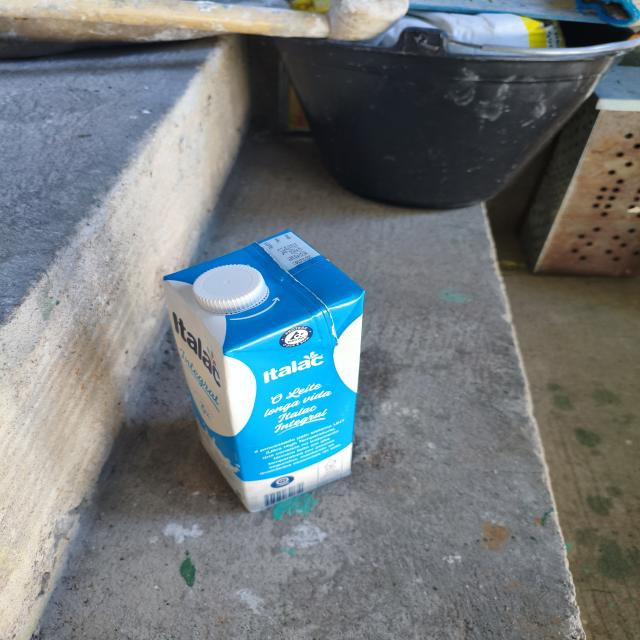Caixa de Leite: (158, 220, 358, 517)
